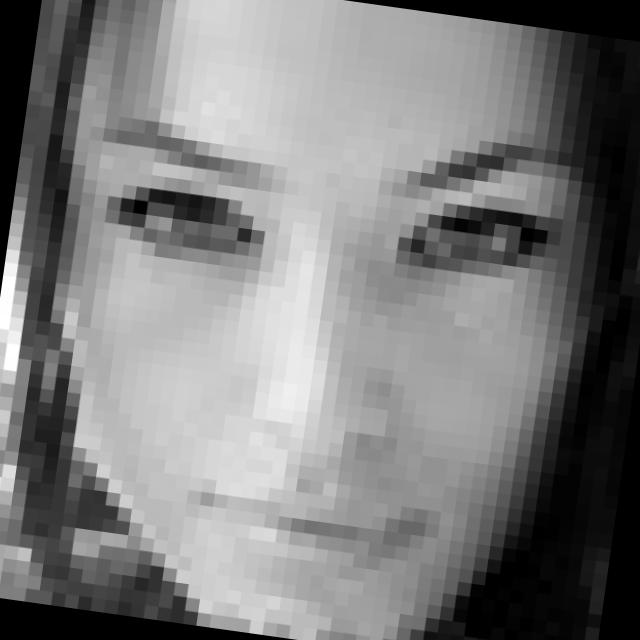neutral: (40, 79, 579, 616)
